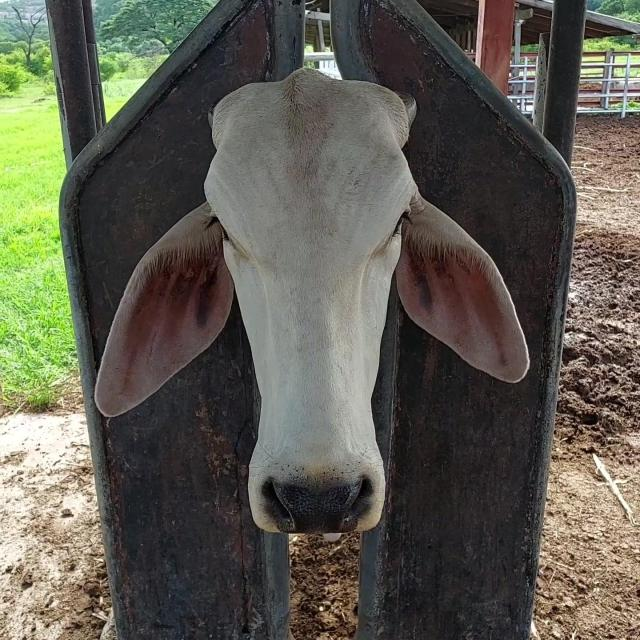cowFace: (208, 71, 410, 534)
